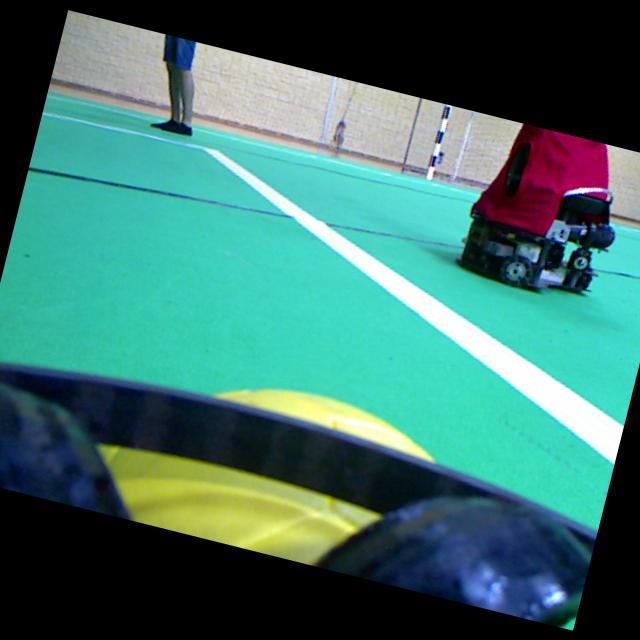ball: (97, 388, 439, 564)
